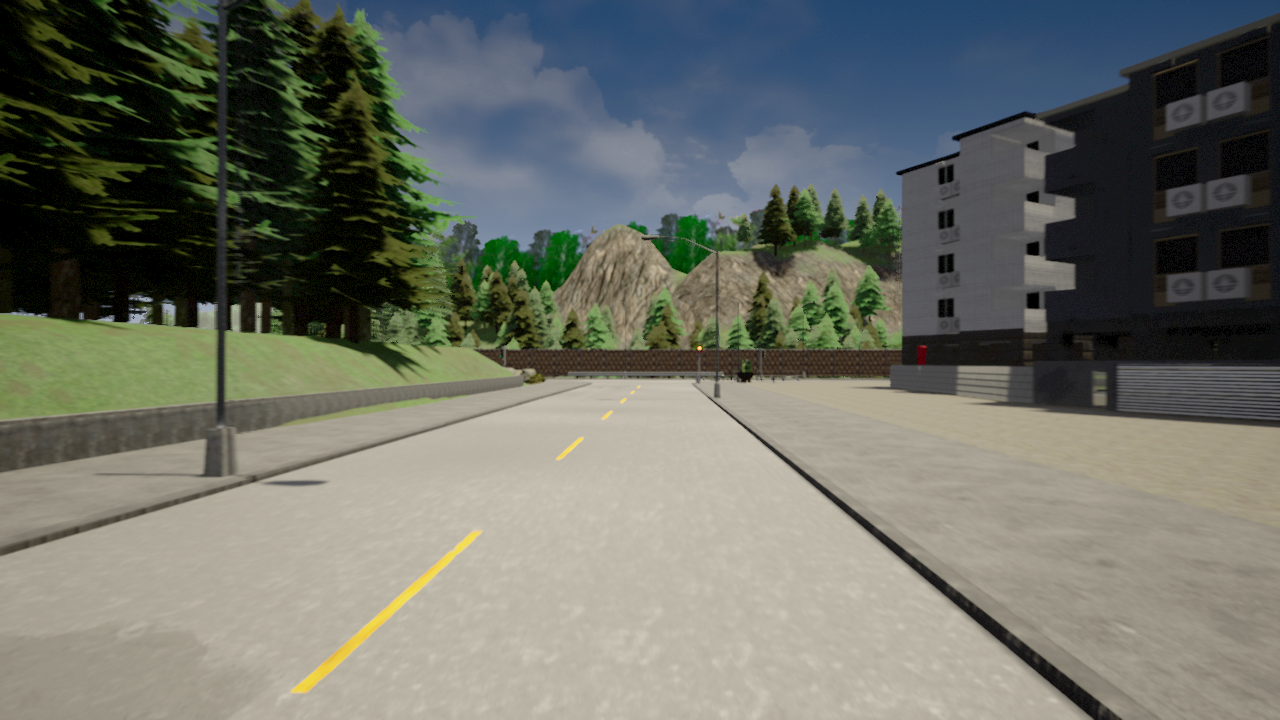red: (696, 344, 703, 357)
